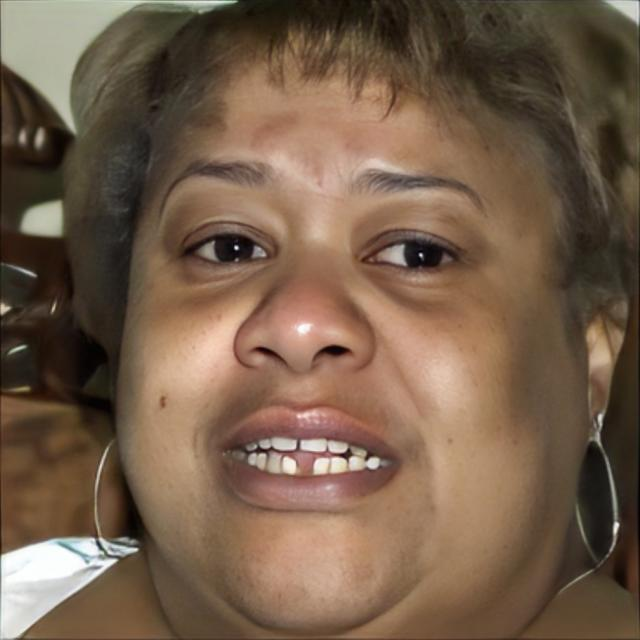sad: (113, 38, 586, 637)
